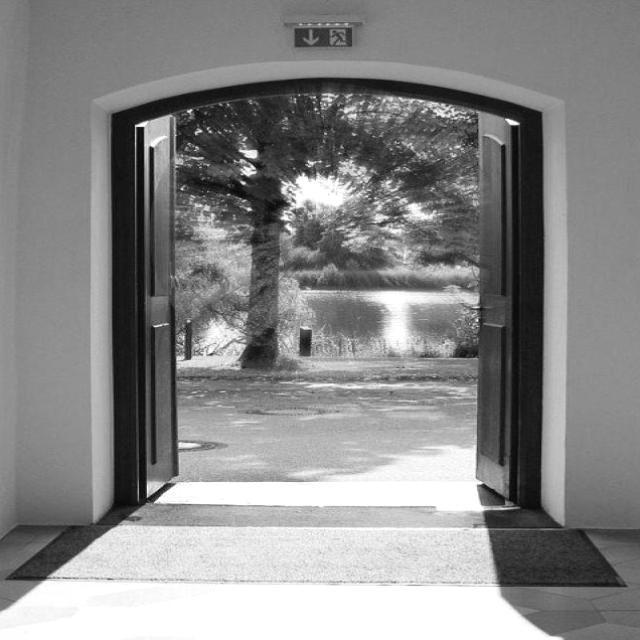door: (108, 104, 190, 502), (463, 98, 532, 506)
